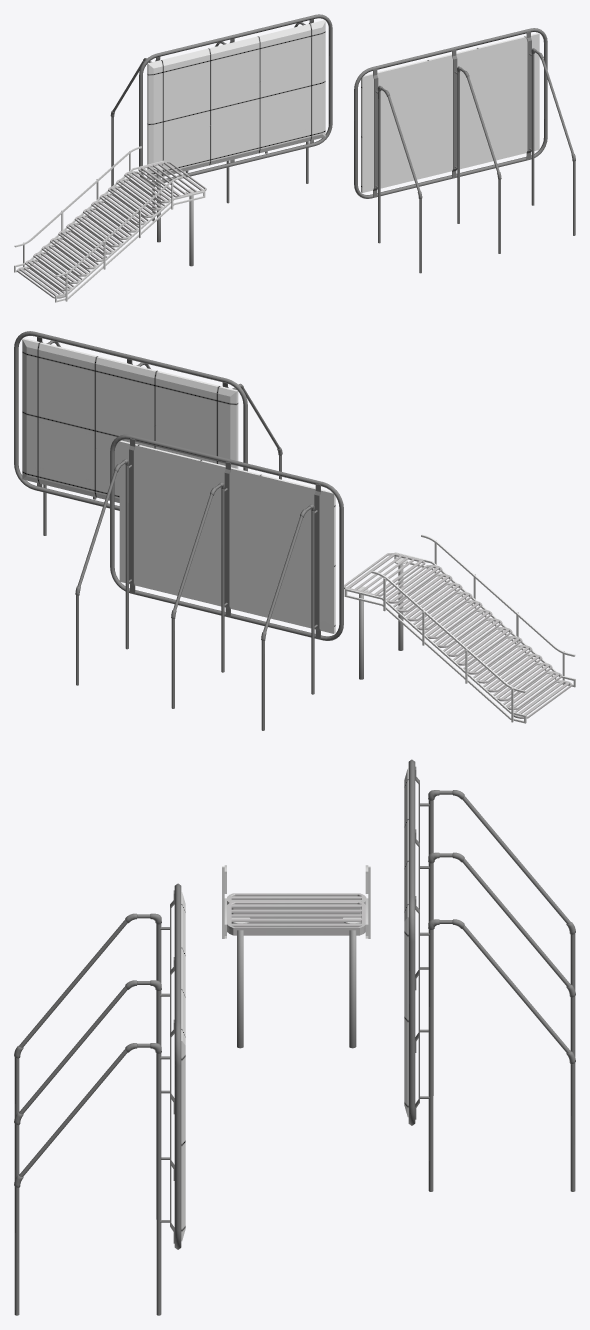
Rendered from let_11.FBX.
The picture shows the model from 3 angles, top to bottom: view 1: azimuth 30°, elevation 25°; view 2: azimuth 150°, elevation 25°; view 3: azimuth 270°, elevation 25°; orthographic projection. The views are drawn at different scales.
Visible parts, largest first — view 1: Rectangle005, Rectangle004, Cylinder003; view 2: Rectangle004, Rectangle005, Cylinder003; view 3: Rectangle005, Rectangle004, Cylinder003.
Part boxes in pixels (x1,y1,x2,y2): Rectangle005: [354, 28, 575, 273]; Rectangle004: [110, 14, 332, 221]; Cylinder003: [14, 146, 206, 302]; Rectangle004: [75, 434, 343, 730]; Rectangle005: [14, 331, 282, 535]; Cylinder003: [344, 534, 575, 723]; Rectangle005: [14, 883, 185, 1315]; Rectangle004: [404, 759, 575, 1191]; Cylinder003: [222, 865, 370, 1048].
Bounding box in the file's own units: 18.84 × 6.49 × 11.11.
